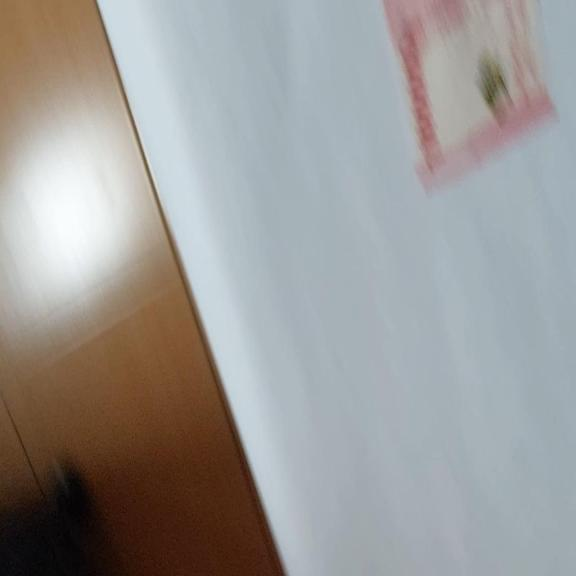Kertas: (381, 0, 558, 191), (474, 44, 517, 130)
